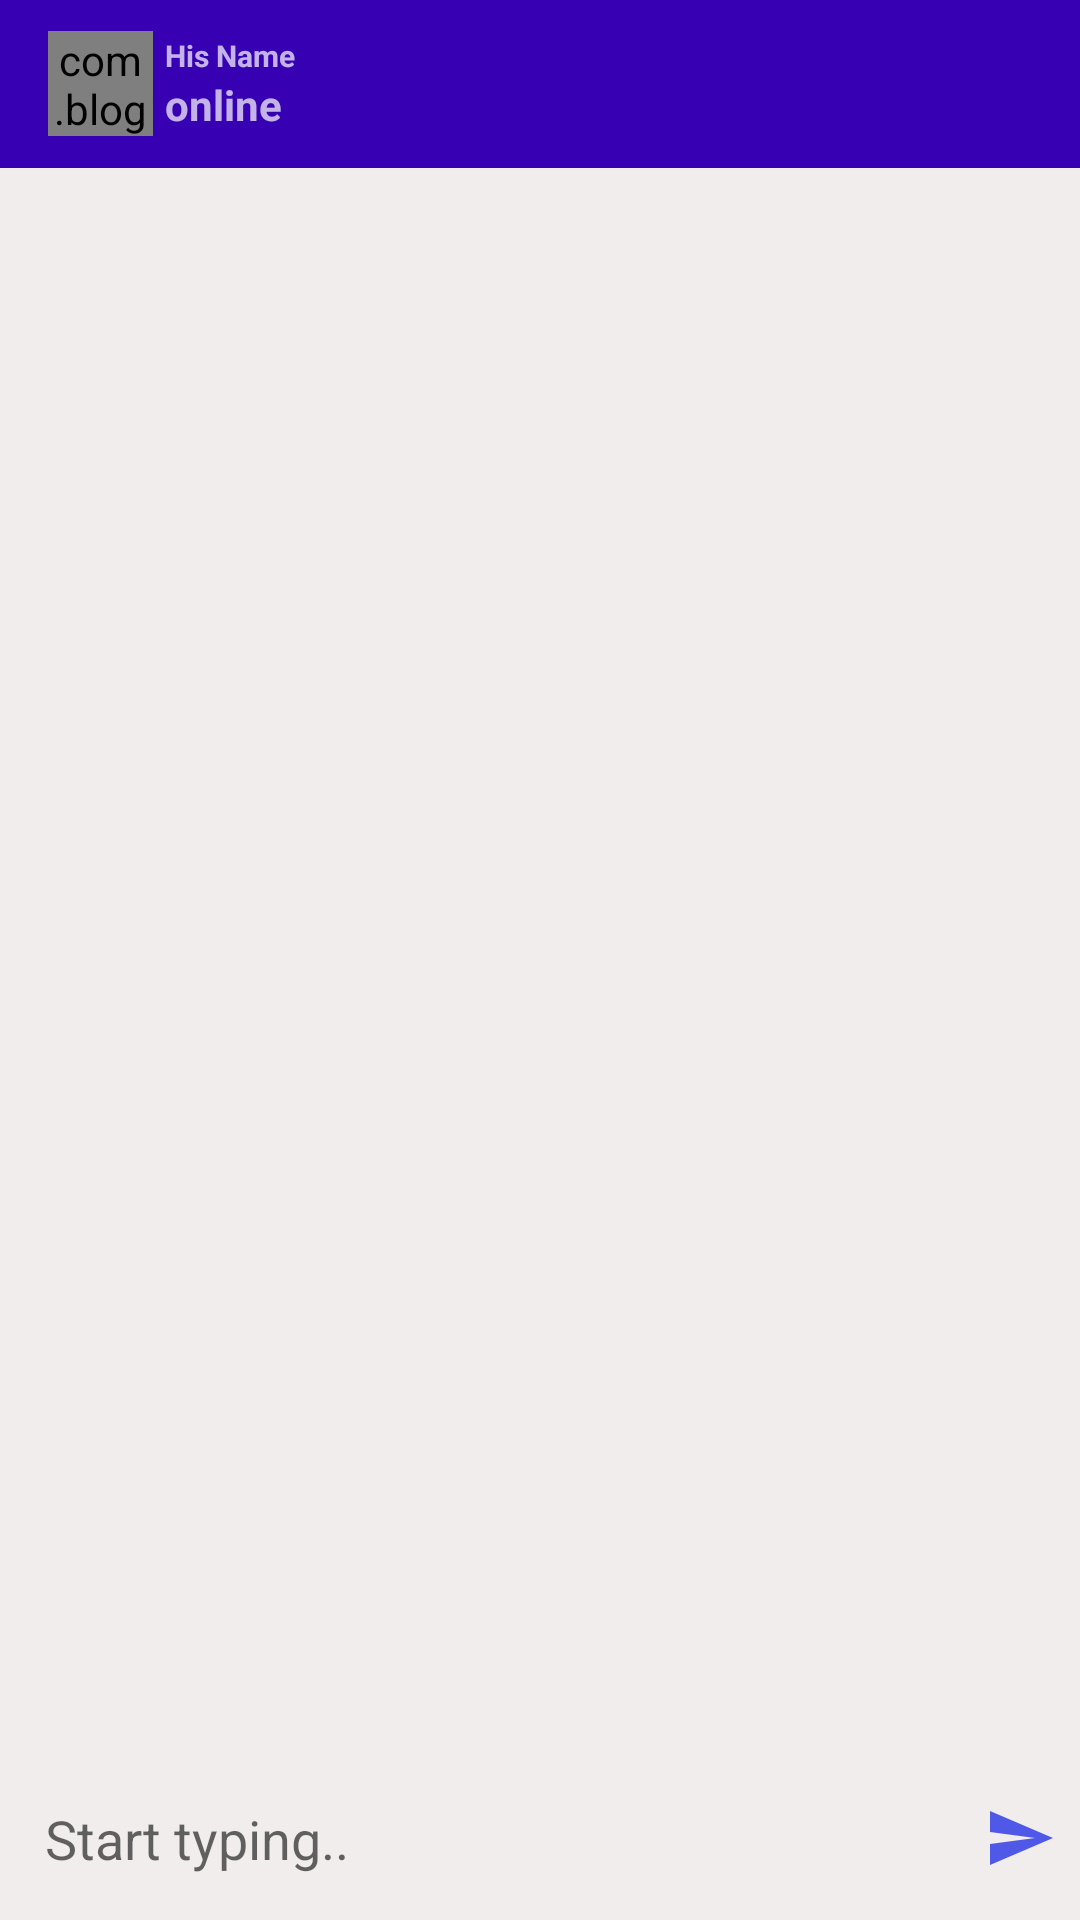

Screen size 1080*1920. Icon name, then its center in pixels as (x=x, y=y):
send: (x=1021, y=1838)
